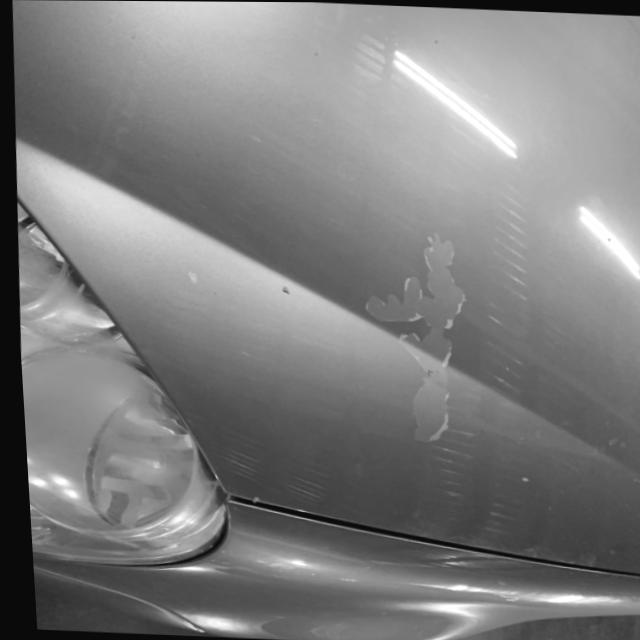Paint-fading: (359, 229, 471, 444)
